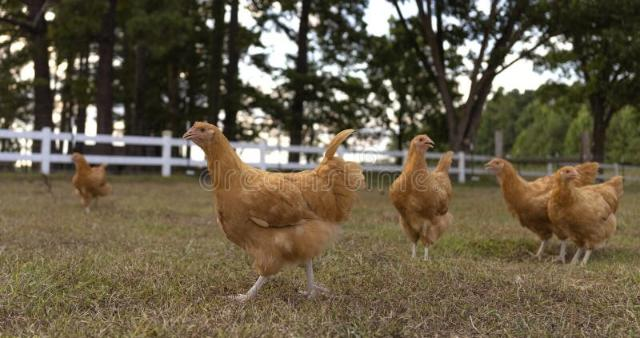Chicken: (182, 122, 365, 302), (484, 159, 599, 259), (391, 133, 456, 262), (547, 165, 624, 267), (70, 153, 110, 211)
